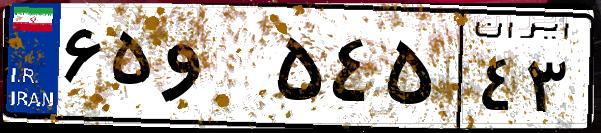3: (525, 38, 570, 115)
4: (330, 28, 385, 110), (475, 38, 525, 113)
5: (270, 28, 330, 110), (385, 28, 445, 110), (110, 28, 158, 98)
6: (57, 26, 110, 100)
و: (158, 20, 270, 120)
